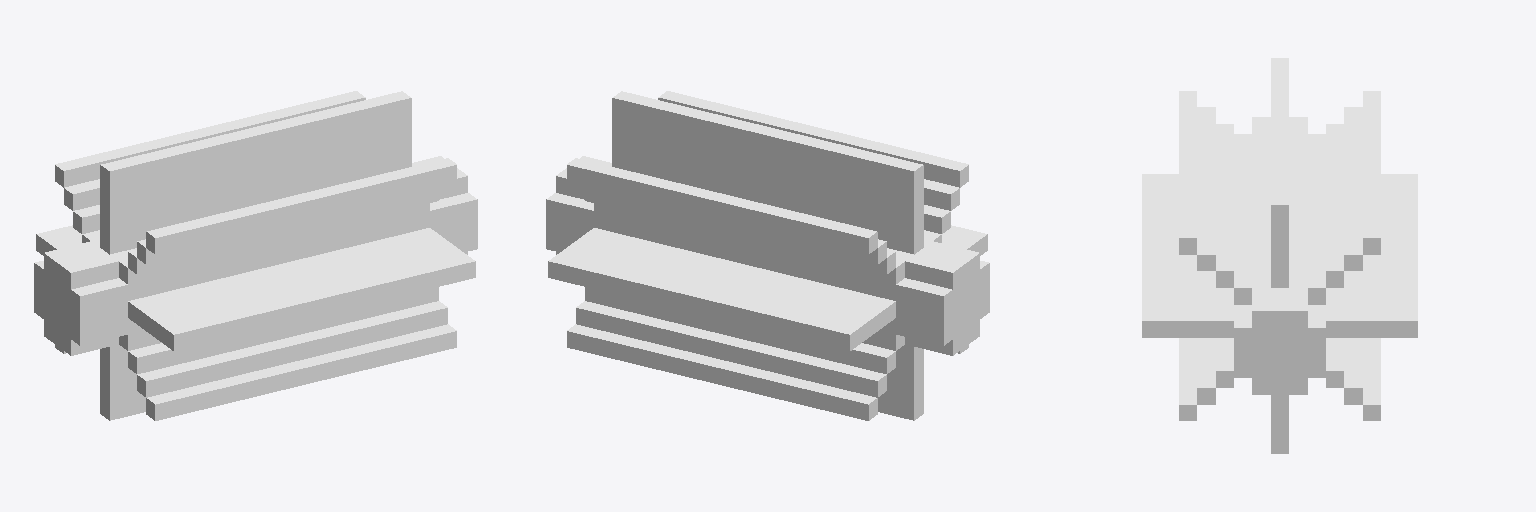
File: turbineCenter.obj
3 renders of one model, left to right at view 1: azimuth 30°, elevation 25°; view 2: azimuth 150°, elevation 25°; view 3: azimuth 270°, elevation 25°, orthographic.
Bounding box in the file's own units: 1 × 0.6 × 0.6.